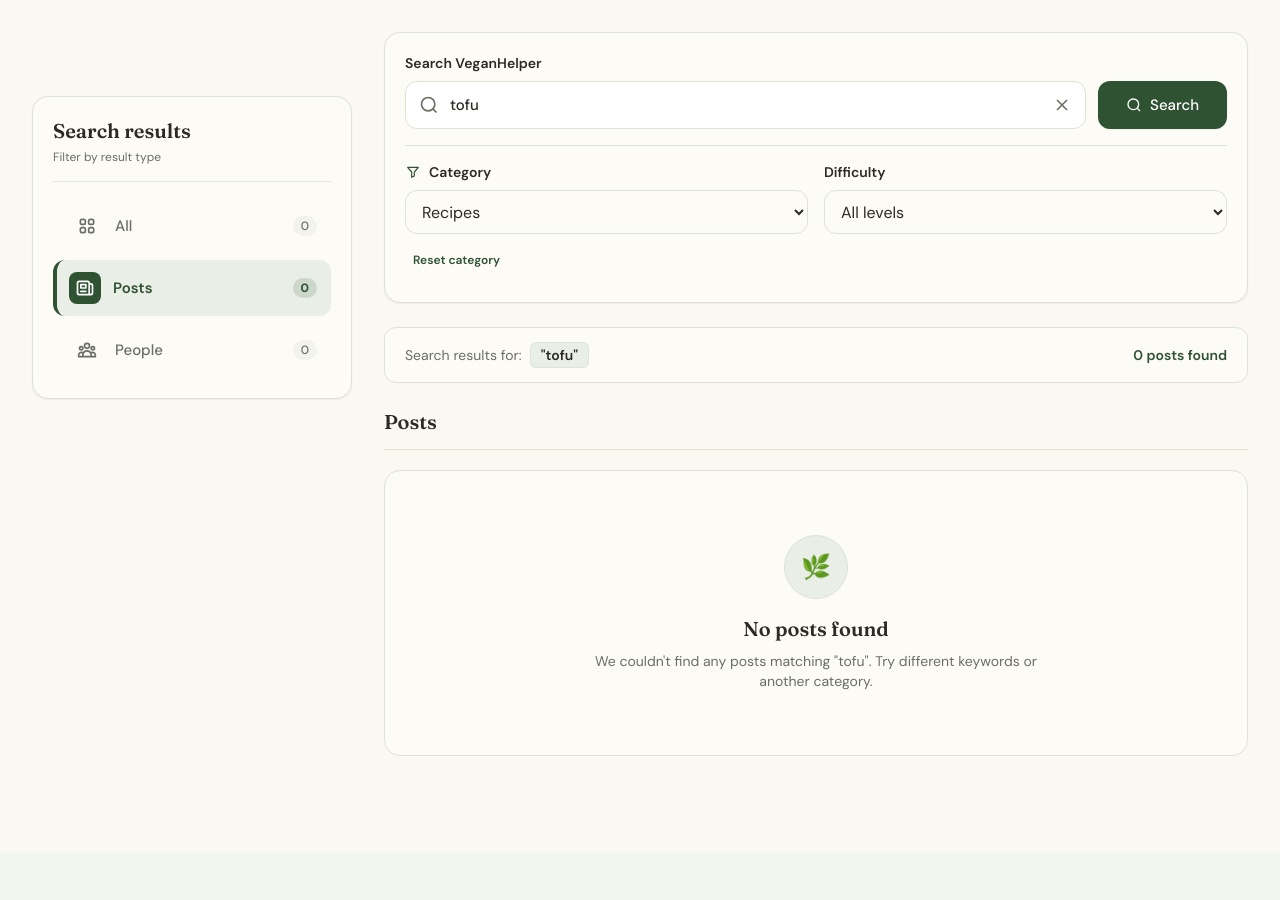
Test: SearchCore - Facebook-style Search Experience › applies category on the server, resets page, and preserves it across tabs
The image size is (1280, 900).
Select "Soups" in the dropdown with id "search-category" at (606, 212), box [405,190,808,234]
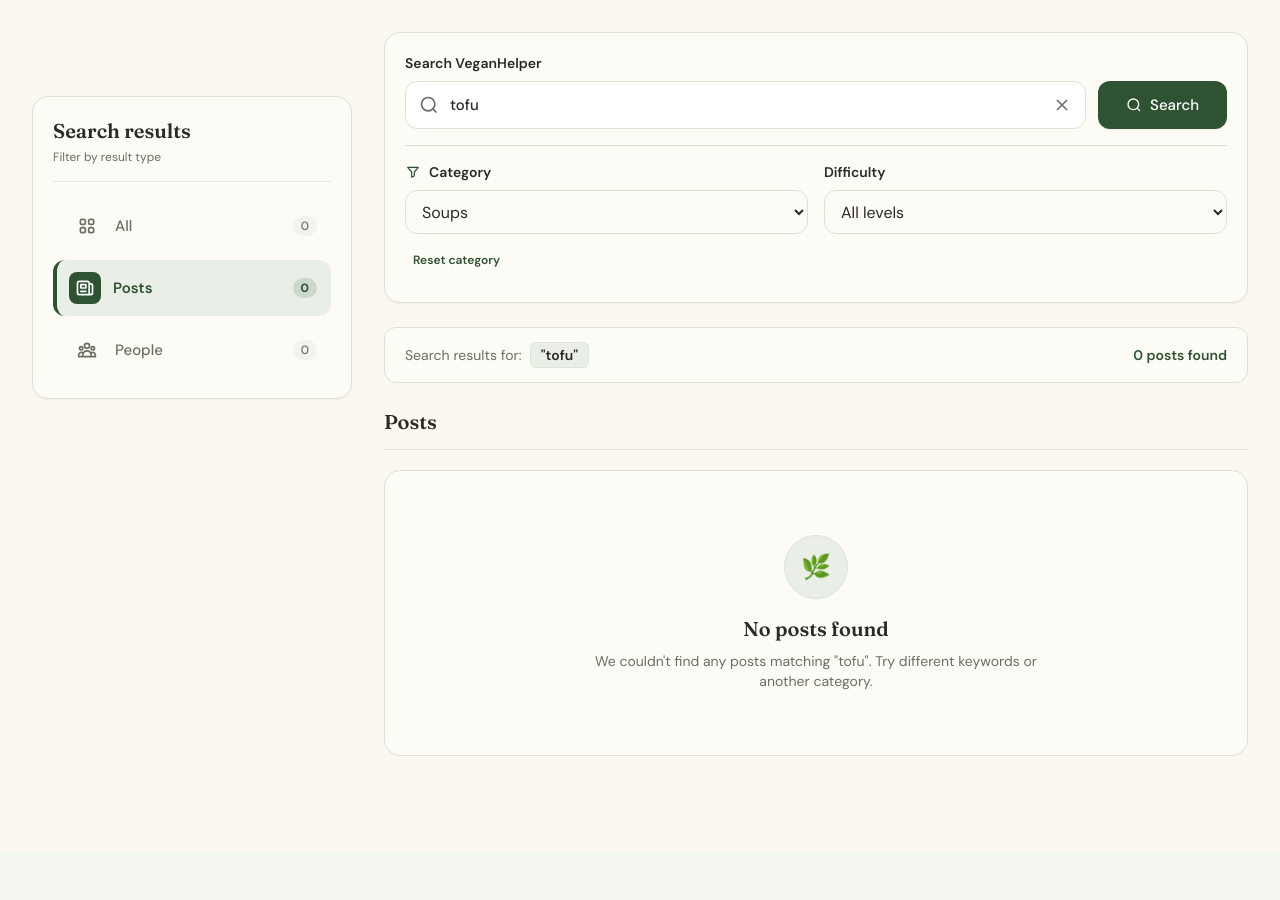
Click the tab with id "filter-tab-people" at (139, 350), box [53,322,331,378]
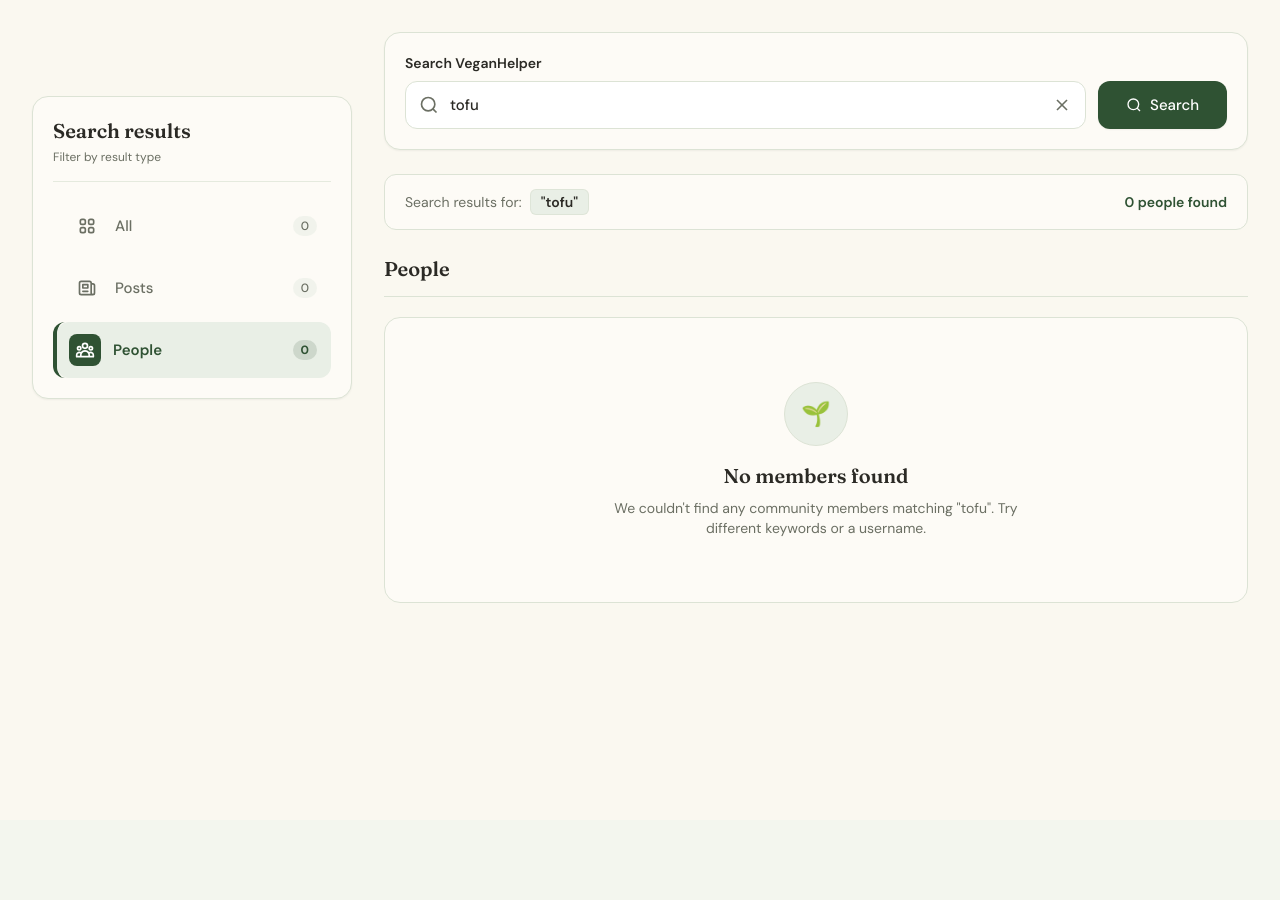
Result: the label with id "search-category" is gone
Click the tab with id "filter-tab-all" at (87, 226), box [53,198,331,254]
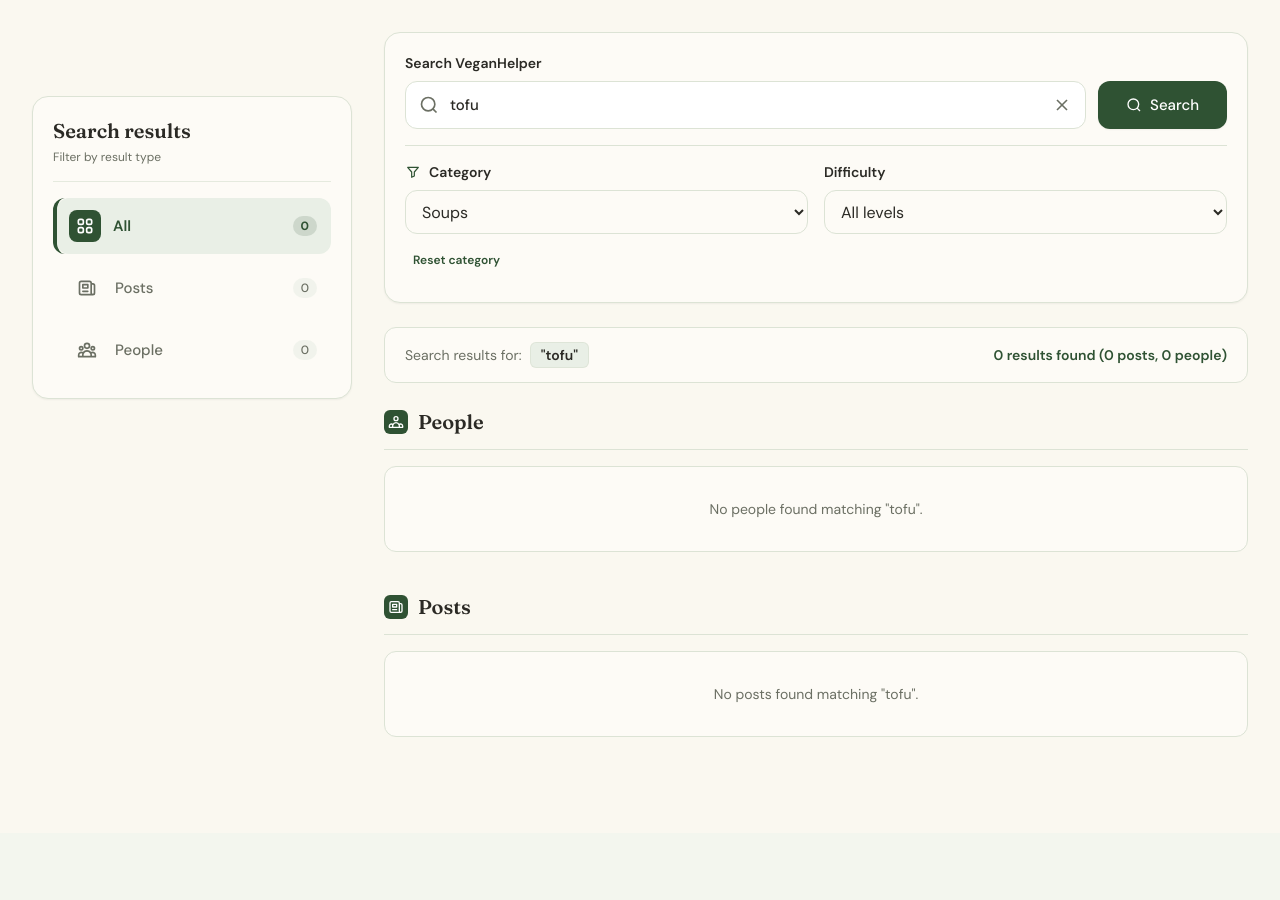
Result: the dropdown with id "search-category" shows "Soups" at [405,190,808,234]
